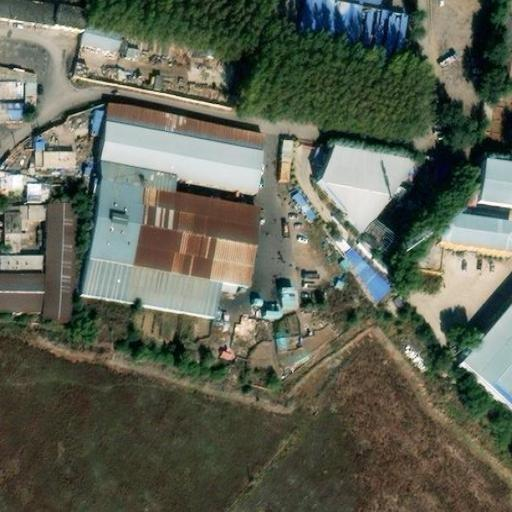building: (68, 192, 249, 332), (98, 105, 261, 156), (313, 157, 409, 242), (451, 308, 512, 432), (35, 209, 67, 327), (87, 167, 169, 205), (432, 229, 510, 267), (338, 253, 389, 311), (473, 171, 512, 220), (72, 23, 116, 59), (110, 31, 152, 67), (91, 129, 126, 172), (295, 317, 337, 352), (354, 229, 393, 265), (275, 133, 294, 180), (0, 69, 27, 101), (0, 257, 37, 279), (285, 196, 308, 223), (276, 281, 296, 307), (35, 155, 64, 172), (16, 185, 39, 205), (78, 65, 97, 85), (122, 74, 140, 91), (66, 62, 81, 81), (108, 71, 125, 87), (95, 68, 111, 82), (387, 0, 402, 12)
